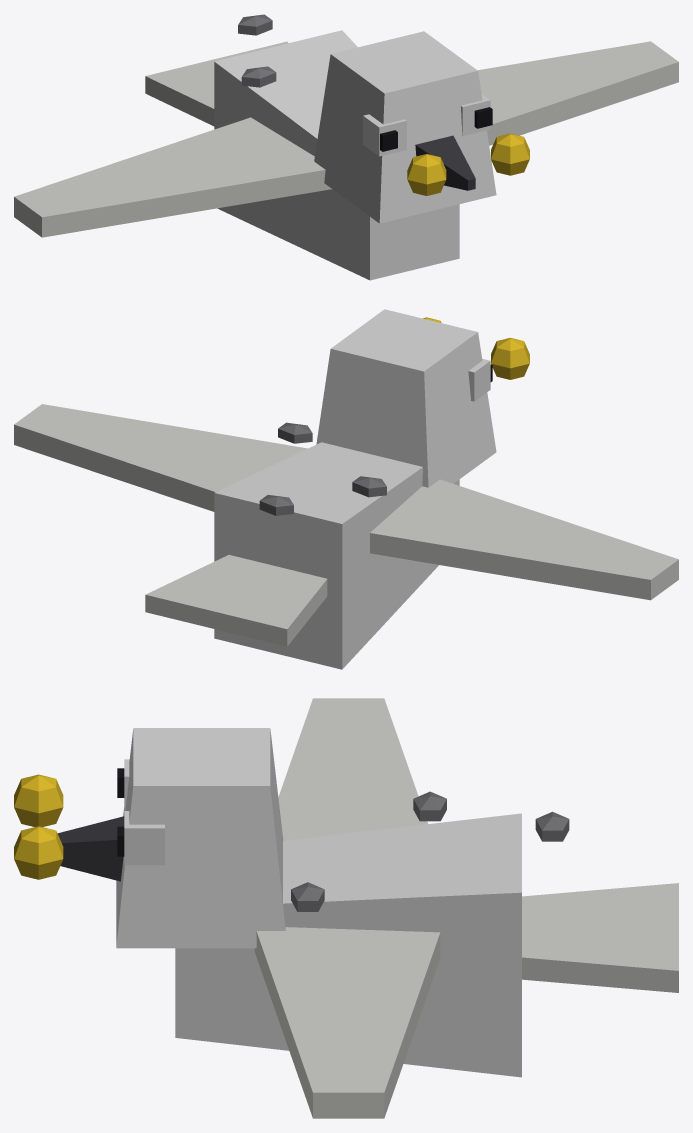
File: snowyowl.glb
3 renders of one model, top to bottom at view 1: azimuth 30°, elevation 25°; view 2: azimuth 150°, elevation 25°; view 3: azimuth 270°, elevation 25°, orthographic. The views are drawn at different scales.
Visible parts, largest first — view 1: snowyowl; view 2: snowyowl; view 3: snowyowl.
Boxes of the visible parts, <box> form: snowyowl: <box>14,14,678,280</box>; snowyowl: <box>14,309,678,669</box>; snowyowl: <box>14,698,678,1118</box>.
Bounding box in the file's own units: 1.14 × 0.38 × 0.8153.
